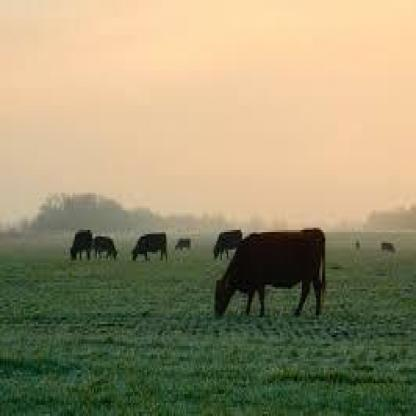cow: (217, 231, 326, 316), (131, 232, 169, 258), (70, 228, 97, 260), (216, 230, 245, 258), (90, 234, 118, 258), (379, 240, 398, 253), (174, 238, 193, 250)
